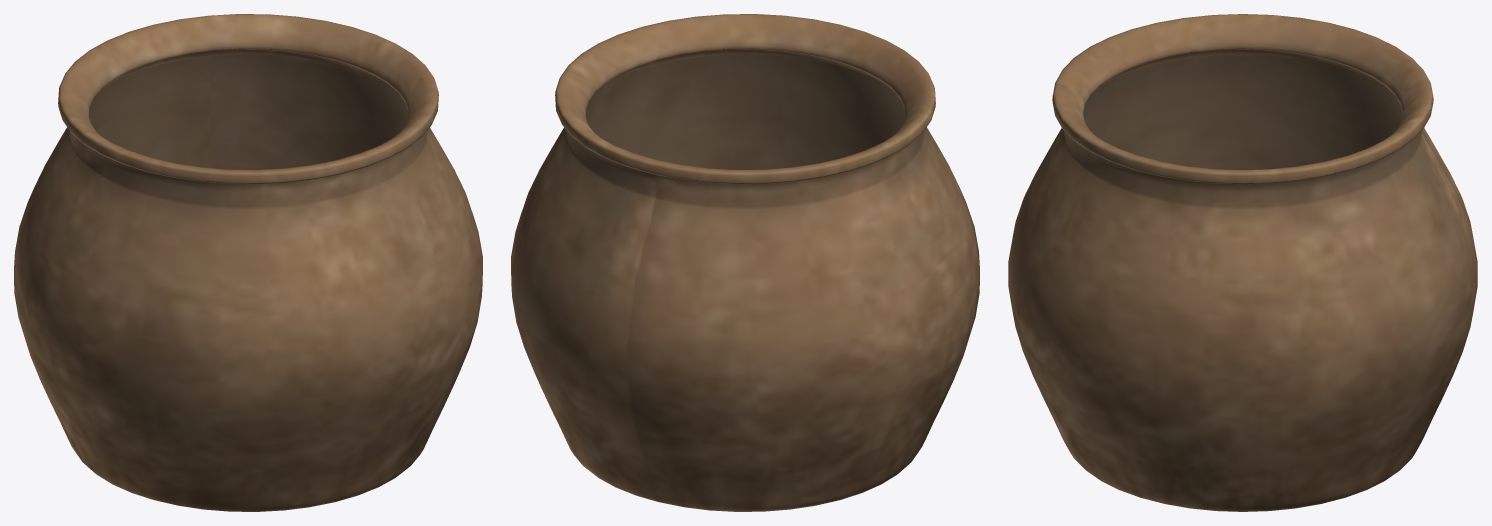
Rendered from SM_Pot_B_Body.glb.
3 renders of one model, left to right at view 1: azimuth 30°, elevation 25°; view 2: azimuth 150°, elevation 25°; view 3: azimuth 270°, elevation 25°, orthographic.
Visible parts, largest first — view 1: SM_Pot_B_Body; view 2: SM_Pot_B_Body; view 3: SM_Pot_B_Body.
Part boxes in pixels (x1,y1,x2,y2): SM_Pot_B_Body: (14, 14, 482, 511); SM_Pot_B_Body: (511, 14, 979, 511); SM_Pot_B_Body: (1008, 14, 1477, 511).
Size of the model in its own units: 0.2948 by 0.241 by 0.2948.
1 material, 1 textured.
